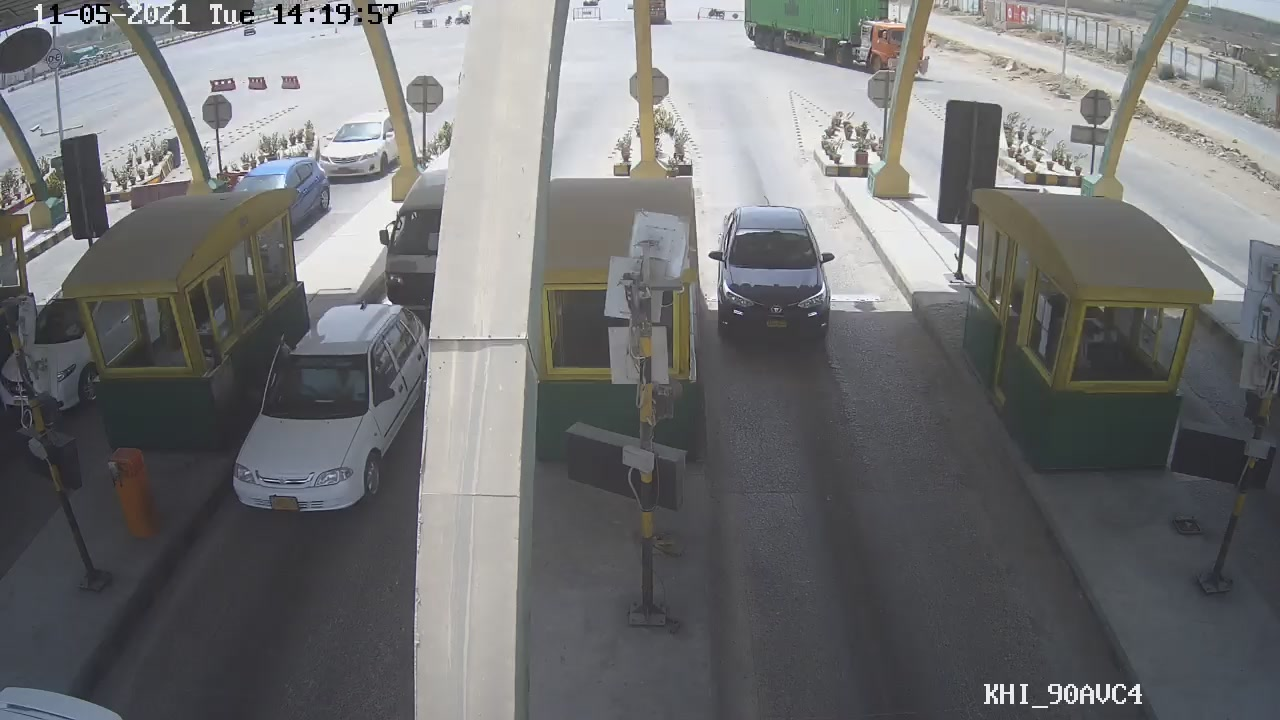F1: (704, 203, 836, 347)
